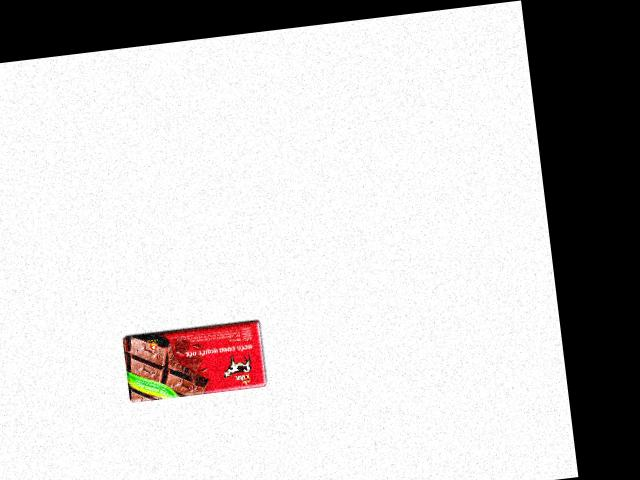chocolate: (121, 312, 272, 405)
